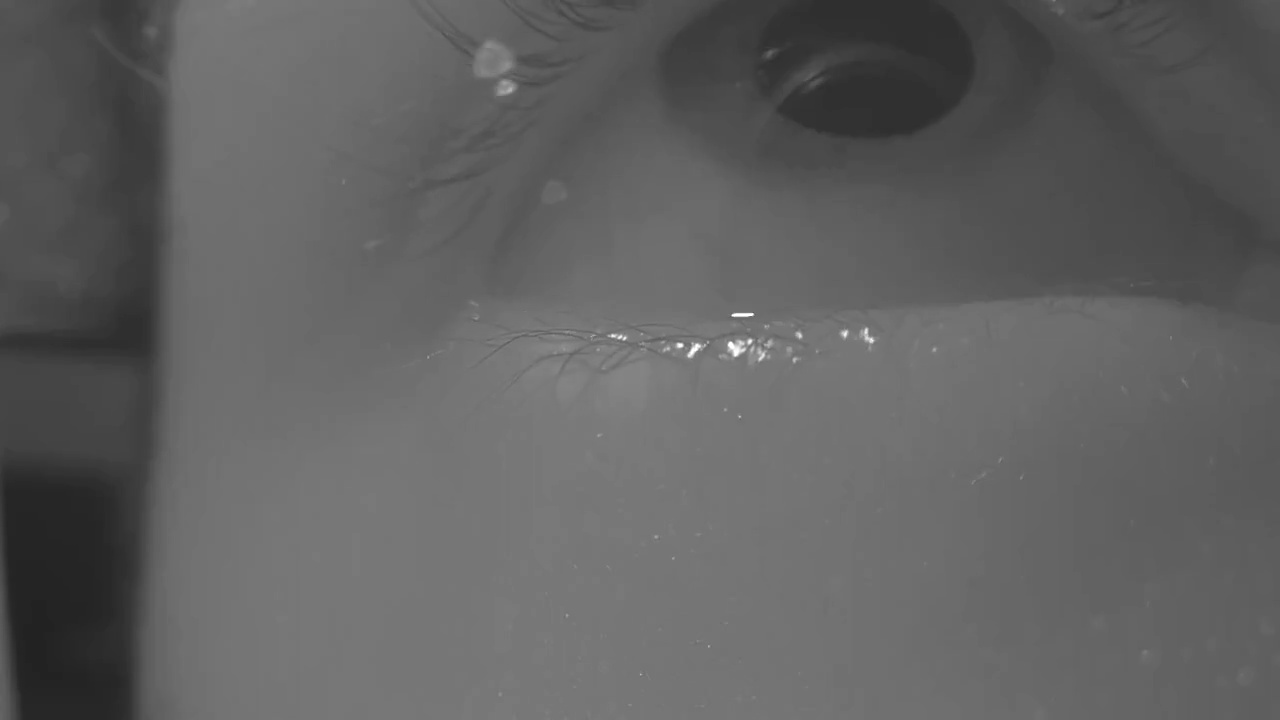pupil: (752, 3, 980, 138)
